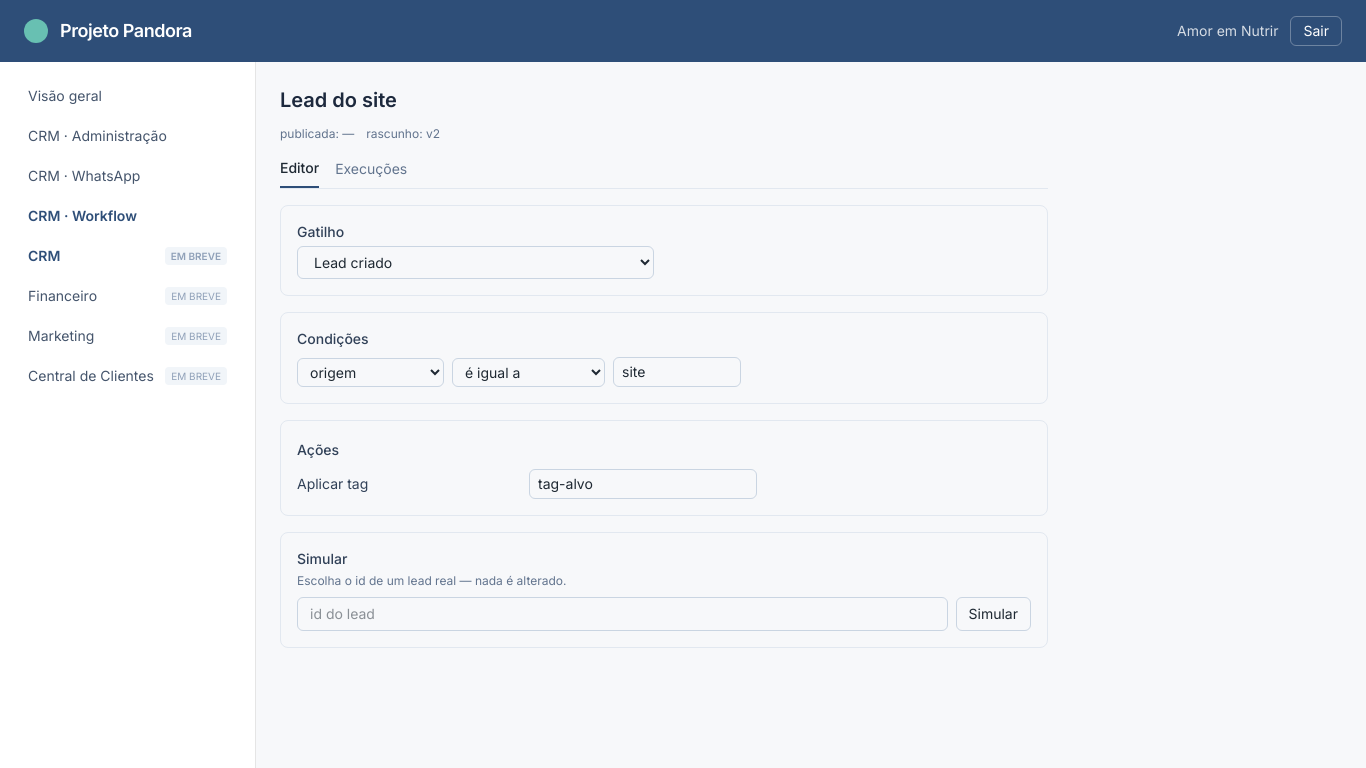
it: CRM · Workflow · editor de fluxo (spec 014) › aba Execuções mostra "nenhuma execução ainda"
This screenshot has width=1366, height=768.
Check: the heading "Lead do site" is shown, box [280,88,397,112]
Click the button "Execuções": (371, 173) [335,158,407,188]
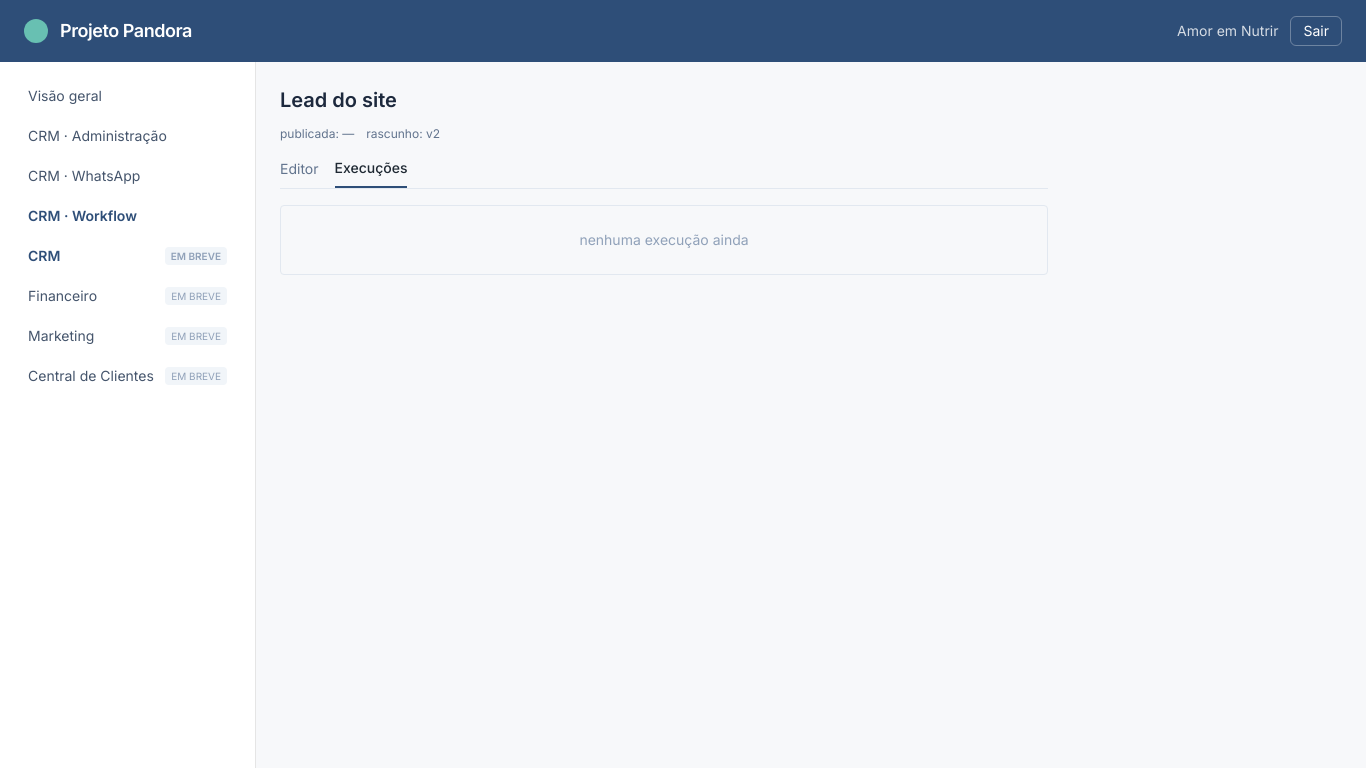
Check: the list item "nenhuma execução ainda" is shown, box [579,231,749,248]
